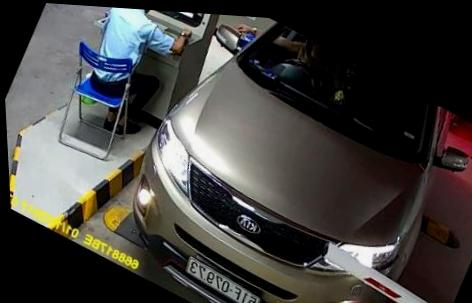License_Plate: (177, 258, 266, 303)
